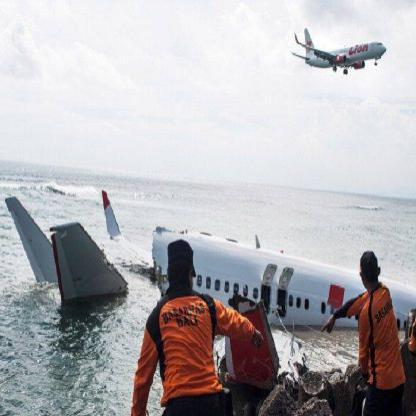CIV_Plane: (290, 15, 390, 84)
